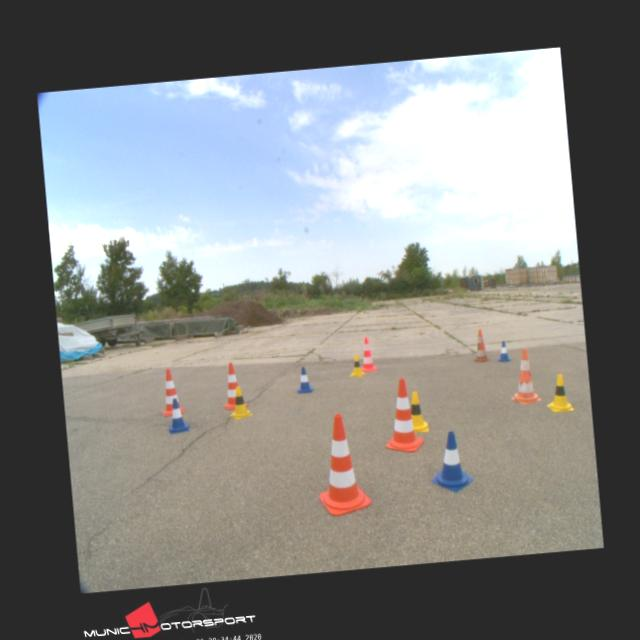blue_cone: (427, 429, 472, 493), (165, 397, 188, 433), (294, 366, 312, 392), (496, 340, 510, 360)
large_orange_cone: (312, 412, 371, 516), (379, 376, 423, 452), (506, 347, 540, 404), (158, 366, 184, 416), (220, 362, 246, 409), (358, 336, 376, 371), (471, 328, 489, 361)
yellow_cone: (544, 372, 572, 412), (404, 388, 428, 432), (228, 384, 252, 418), (347, 352, 364, 376)
